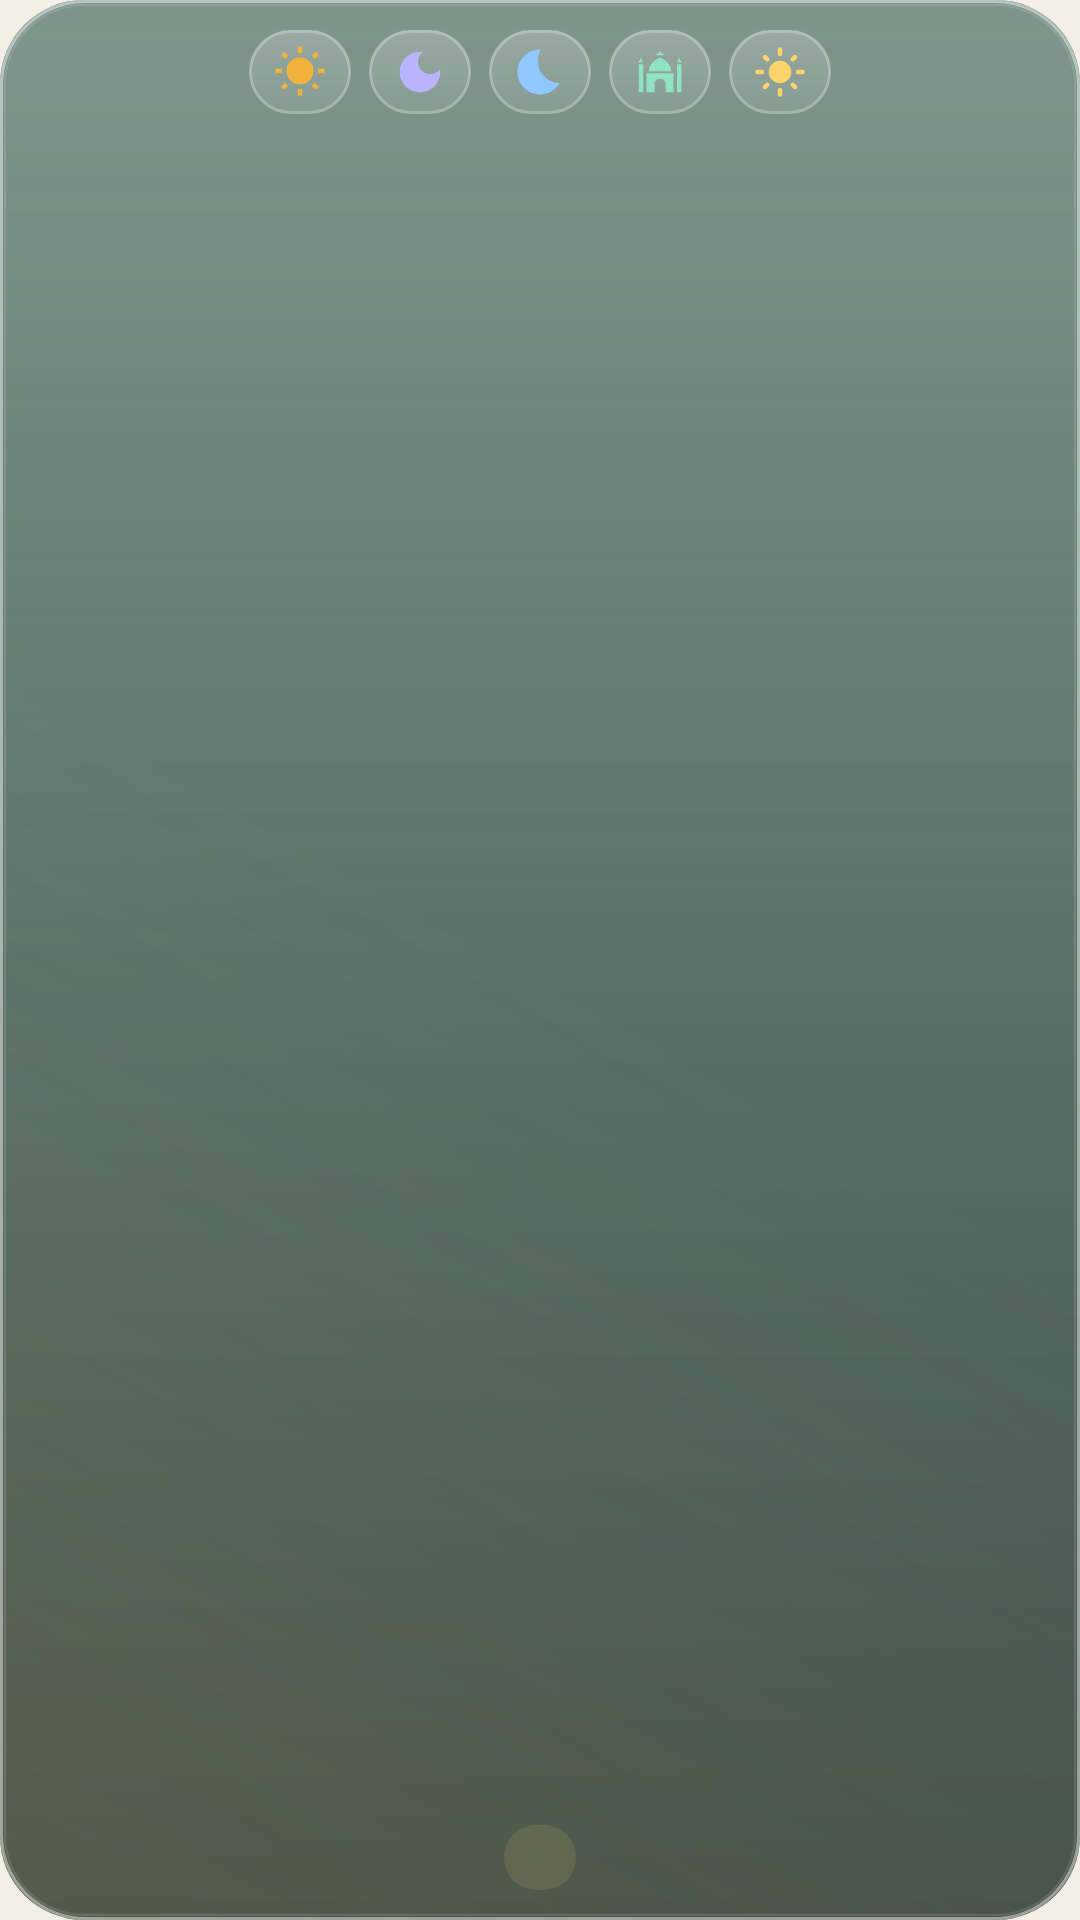

Where to tap for icons on this 1080px×1920px app screen, as (x=x, y=y):
Day: (x=780, y=72)
Evening: (x=420, y=72)
Morning: (x=300, y=72)
Prayer: (x=660, y=72)
Sleep: (x=540, y=72)
